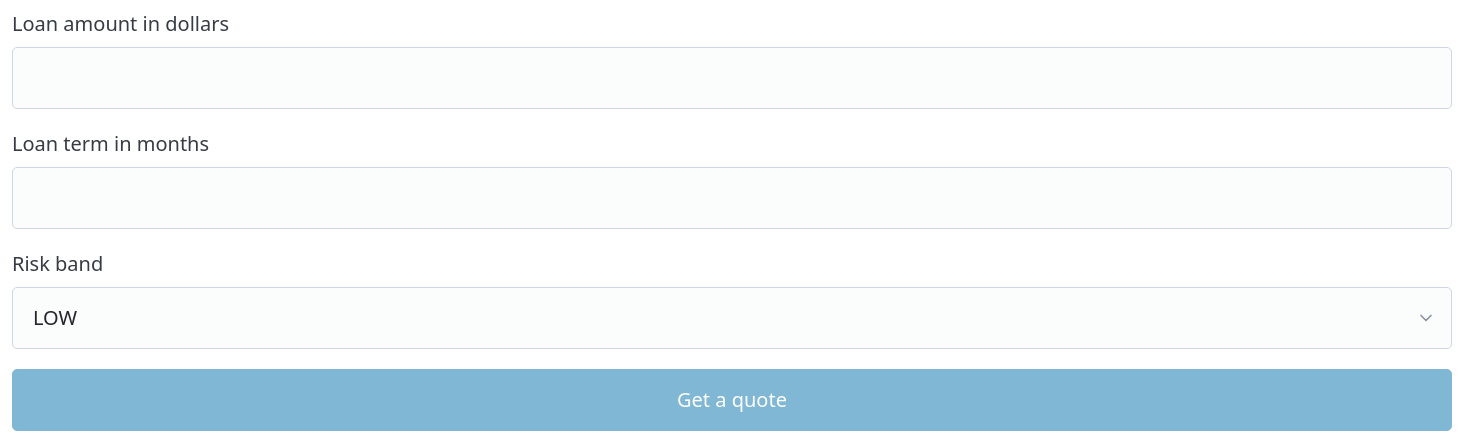
Test case: the quote form › disables the submit control again when a filled field is emptied
Type "5000" into the number field labelled "Loan amount in dollars" at coordinates (732, 78), box [12,46,1452,109]
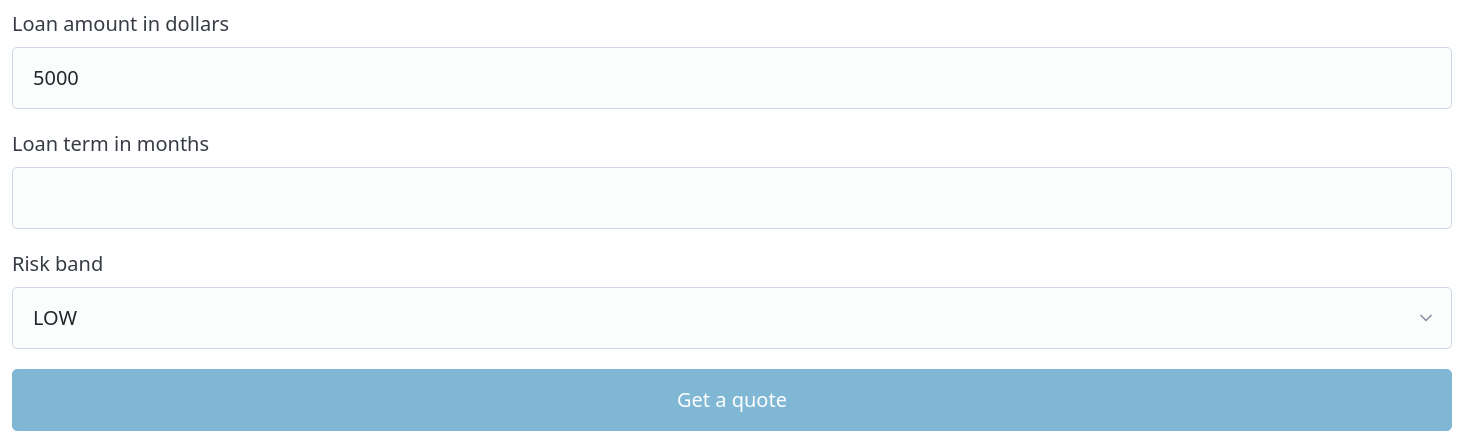
Type "24" into the number field labelled "Loan term in months" at coordinates (732, 198), box [12,166,1452,229]
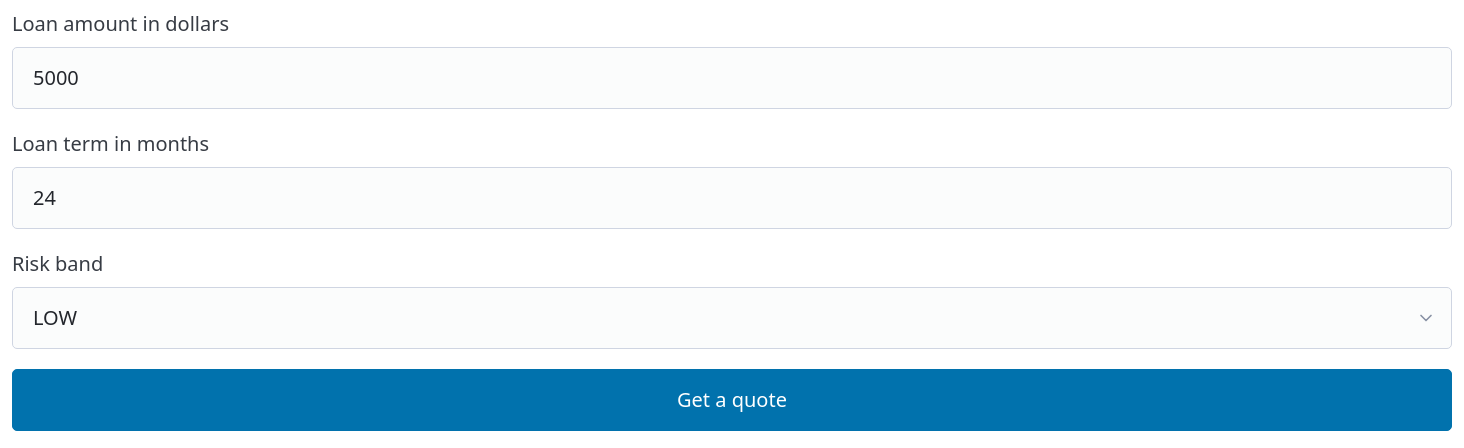
Expected: the button is enabled, [12,368,1452,430]
Clear the number field labelled "Loan amount in dollars" at coordinates (732, 78), box [12,46,1452,109]
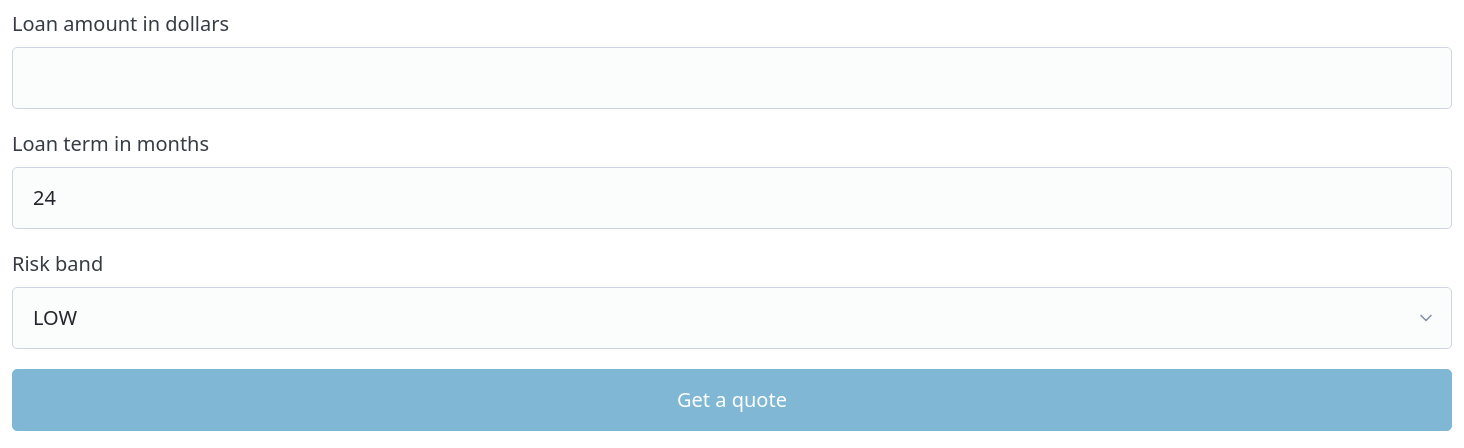
Expected: the button is disabled, [12,368,1452,430]
